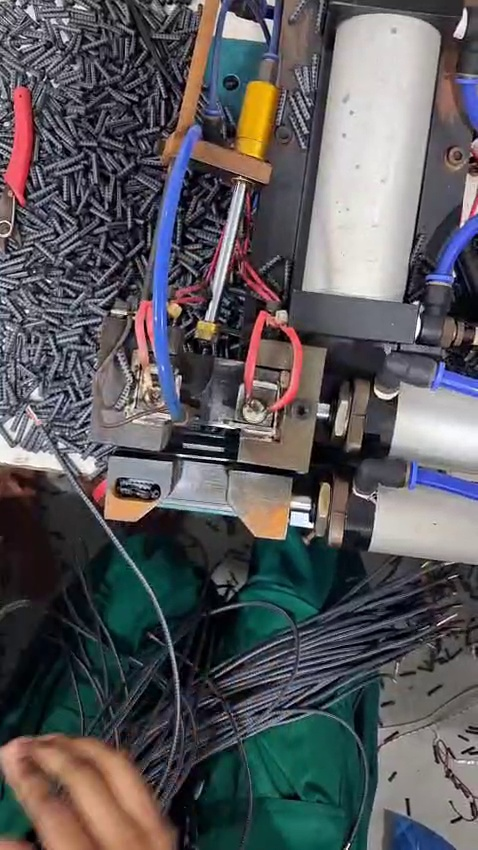machine: (82, 293, 352, 504)
peeled_wire: (11, 393, 67, 455)
